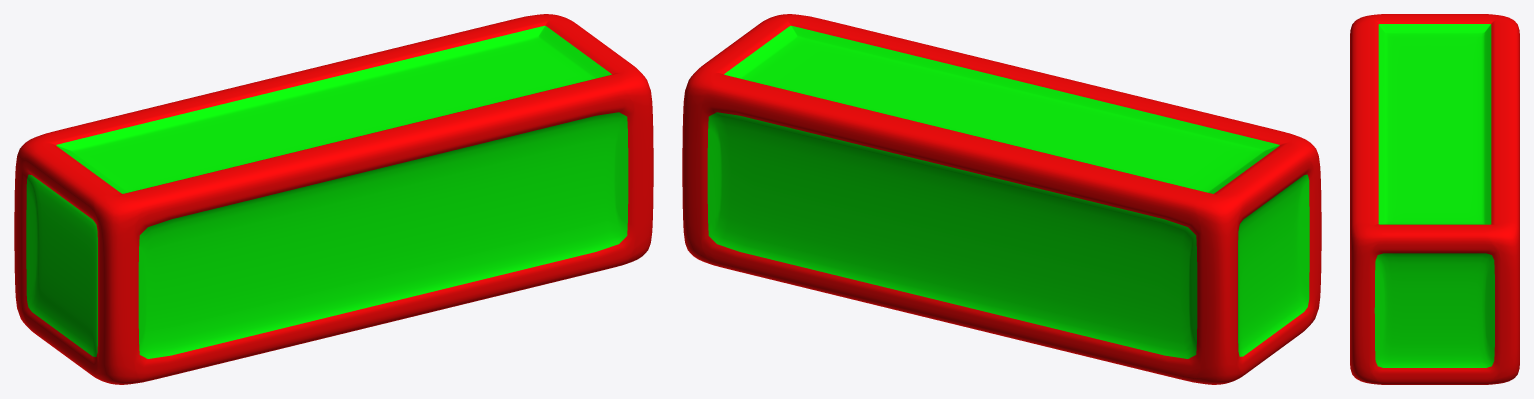
File: Brick_HP.fbx
The picture shows the model from 3 angles, left to right: view 1: azimuth 30°, elevation 25°; view 2: azimuth 150°, elevation 25°; view 3: azimuth 270°, elevation 25°; orthographic projection. The views are drawn at different scales.
Parts seen in each view (by area): view 1: brick_HP_geo; view 2: brick_HP_geo; view 3: brick_HP_geo.
Part boxes in pixels (left/top/right/bottom): brick_HP_geo: left=14, top=14, right=653, bottom=384; brick_HP_geo: left=682, top=14, right=1321, bottom=384; brick_HP_geo: left=1350, top=14, right=1519, bottom=384.
Size of the model in its own units: 3.12 by 0.9999 by 0.9999.
